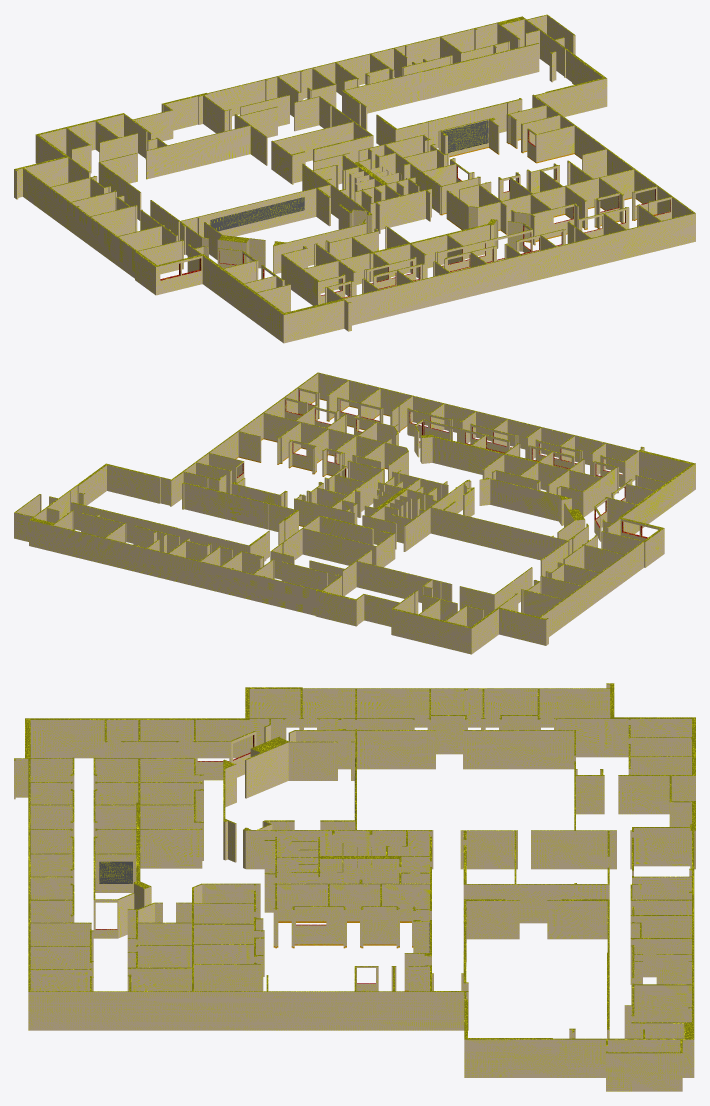
File: willow_mini.dae
3 renders of one model, top to bottom at view 1: azimuth 30°, elevation 25°; view 2: azimuth 150°, elevation 25°; view 3: azimuth 270°, elevation 25°, orthographic. The views are drawn at different scales.
Visible parts, largest first — view 1: Component_1 (×21); view 2: Component_1 (×20); view 3: Component_1 (×20).
Part boxes in pixels (left/top/right/bottom): Component_1 (×21): left=14, top=14, right=695, bottom=343; Component_1 (×20): left=14, top=372, right=695, bottom=654; Component_1 (×20): left=14, top=683, right=695, bottom=1091.
Bounding box in the file's own units: 2308 × 1798 × 112.
